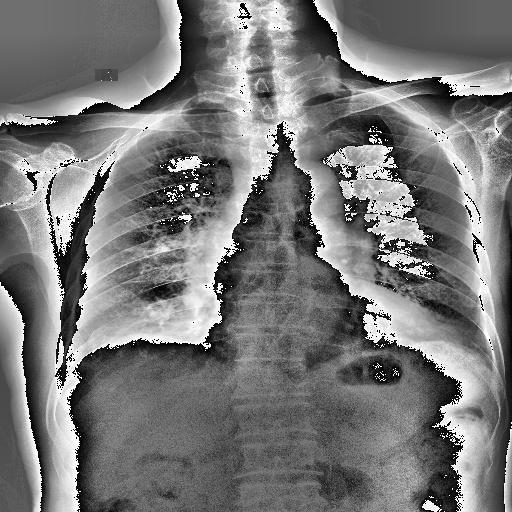0- Aortic enlargement: (204, 165, 342, 287), (264, 159, 346, 225), (284, 161, 346, 214)
11- Pleural thickening: (370, 91, 422, 123), (374, 94, 414, 122), (125, 121, 162, 149)
3- Cardiomegaly: (198, 298, 438, 354), (195, 313, 437, 359), (196, 313, 447, 353)
